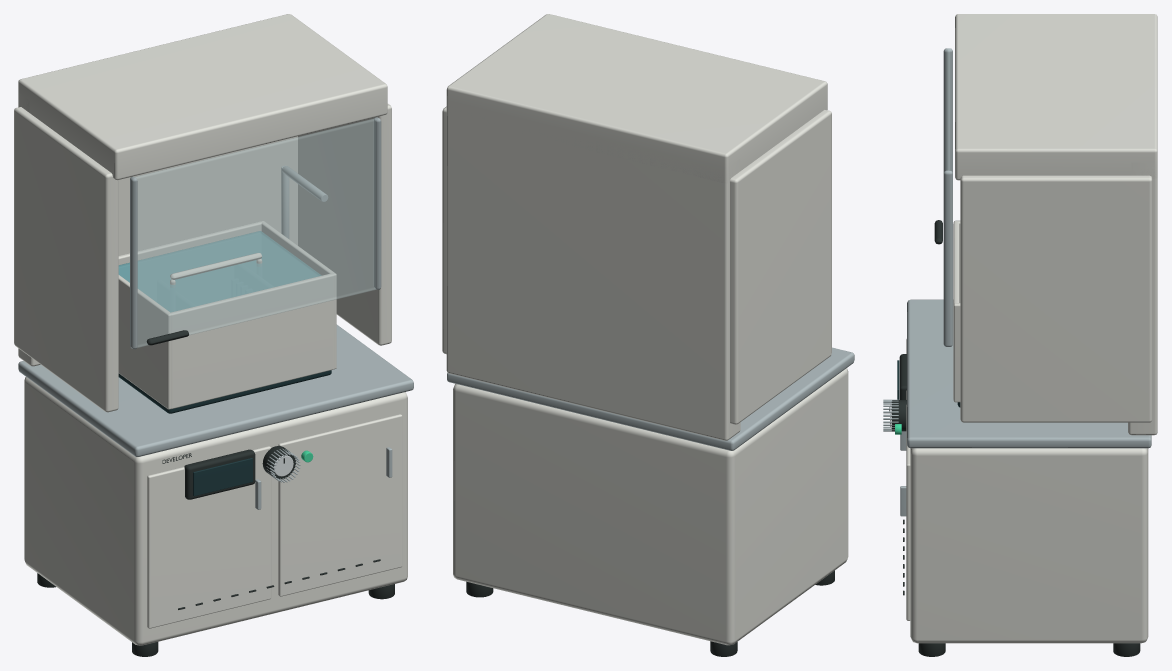
The model's file is developer.glb.
3 views of the same model, side by side, from view 1: azimuth 30°, elevation 25°; view 2: azimuth 150°, elevation 25°; view 3: azimuth 270°, elevation 25° (orthographic). The views are drawn at different scales.
Parts seen in each view (by area): view 1: Equipment_developer_Ceramic ivory, Door.005_Quartz inspection, Equipment_developer_Brushed stainless, Equipment_developer_DI water, Door.005_Brushed stainless, Equipment_developer_Knurled graphite, LCD.009, Equipment_developer_Instrument glass, Carriage.005_Ceramic ivory; view 2: Equipment_developer_Ceramic ivory, Equipment_developer_Brushed stainless, Equipment_developer_Knurled graphite; view 3: Equipment_developer_Ceramic ivory, Equipment_developer_Brushed stainless, Door.005_Brushed stainless, Equipment_developer_Knurled graphite, Door.005_Quartz inspection, Knob_main.009.
Part boxes in pixels (bbox=[...]): Equipment_developer_Ceramic ivory: bbox=[14, 14, 407, 645]; Door.005_Quartz inspection: bbox=[135, 118, 376, 347]; Equipment_developer_Brushed stainless: bbox=[18, 165, 413, 509]; Equipment_developer_DI water: bbox=[118, 231, 321, 312]; Door.005_Brushed stainless: bbox=[130, 117, 381, 349]; Equipment_developer_Knurled graphite: bbox=[37, 449, 394, 656]; LCD.009: bbox=[193, 458, 252, 496]; Equipment_developer_Instrument glass: bbox=[118, 370, 331, 413]; Carriage.005_Ceramic ivory: bbox=[170, 253, 262, 284]; Equipment_developer_Ceramic ivory: bbox=[442, 14, 848, 645]; Equipment_developer_Brushed stainless: bbox=[447, 347, 854, 450]; Equipment_developer_Knurled graphite: bbox=[466, 570, 834, 656]; Equipment_developer_Ceramic ivory: bbox=[906, 14, 1157, 643]; Equipment_developer_Brushed stainless: bbox=[883, 299, 1151, 516]; Door.005_Brushed stainless: bbox=[943, 48, 952, 346]; Equipment_developer_Knurled graphite: bbox=[889, 354, 1140, 656]; Door.005_Quartz inspection: bbox=[946, 49, 950, 170]; Knob_main.009: bbox=[891, 400, 906, 431].
Bounding box in the file's own units: 1.26 × 2.08 × 1.02.
